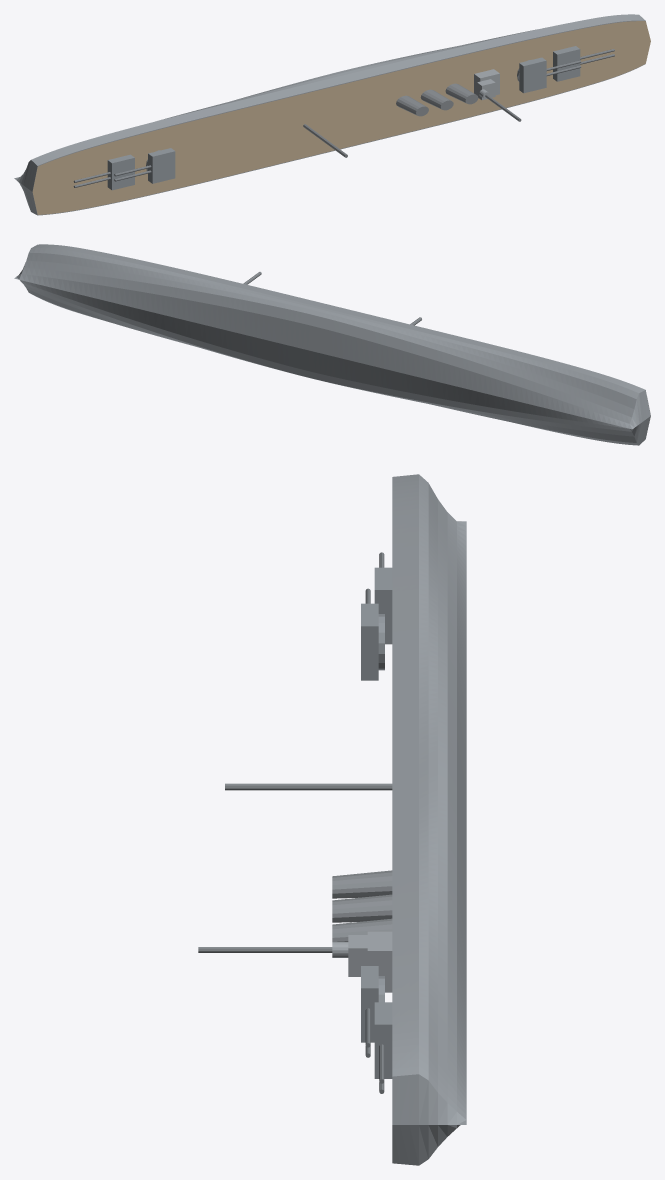
The picture shows the model from 3 angles, top to bottom: view 1: azimuth 30°, elevation 25°; view 2: azimuth 150°, elevation 25°; view 3: azimuth 270°, elevation 25°; orthographic projection. The views are drawn at different scales.
Visible parts, largest first — view 1: G; view 2: G; view 3: G.
Boxes of the visible parts, x1=… form: G: x1=14, y1=14, x2=650, y2=215; G: x1=14, y1=244, x2=650, y2=445; G: x1=198, y1=474, x2=466, y2=1165.
Size of the model in its own units: 287 by 30.72 by 53.77.
